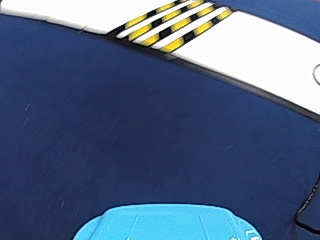bump: (112, 2, 210, 49)
